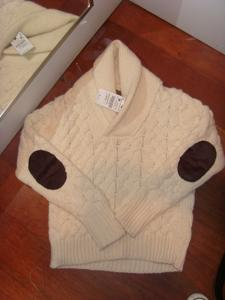S_cardigan sweater: (30, 48, 219, 276)
